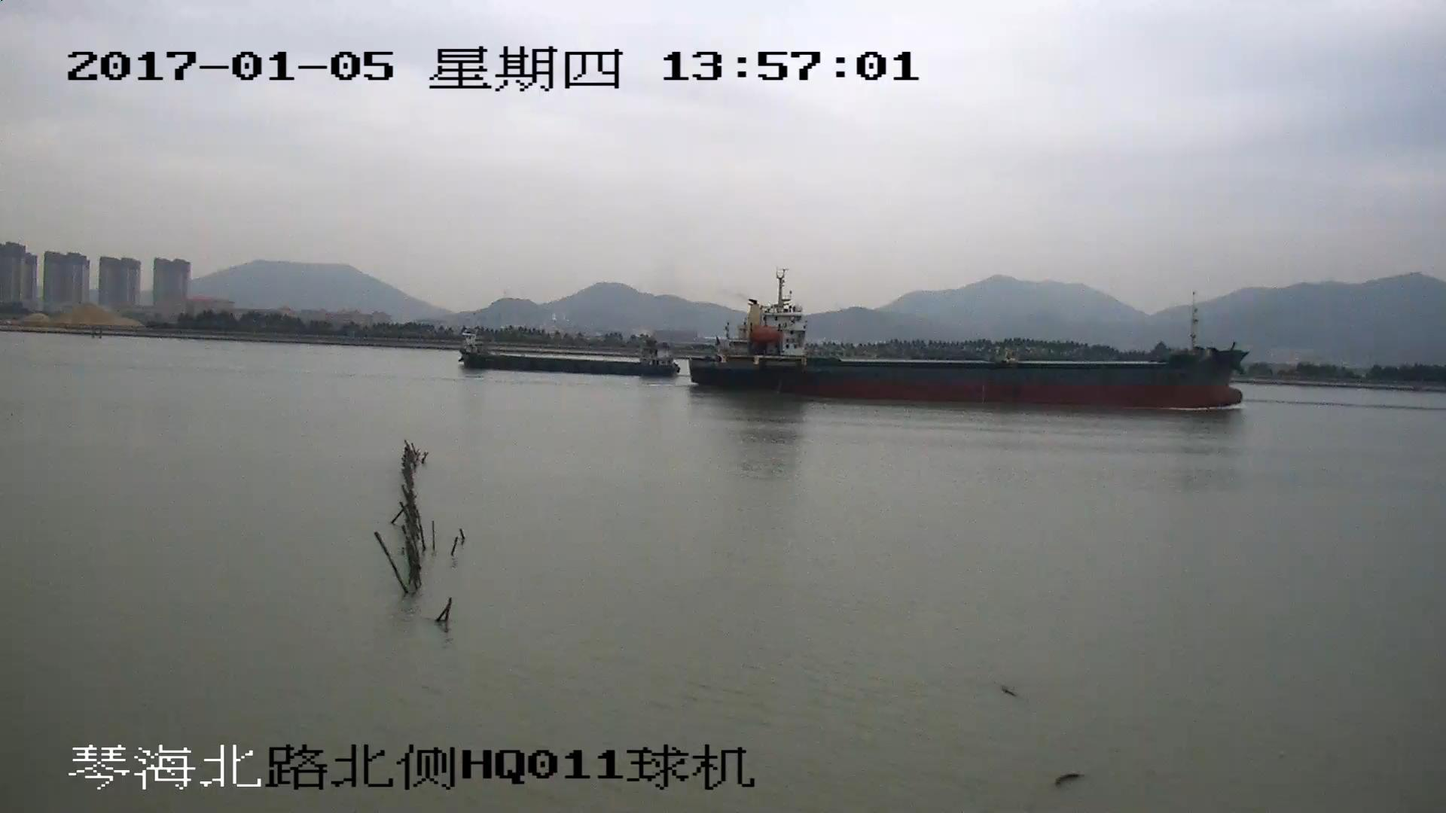general cargo ship: (685, 273, 1249, 408), (459, 327, 677, 376)
